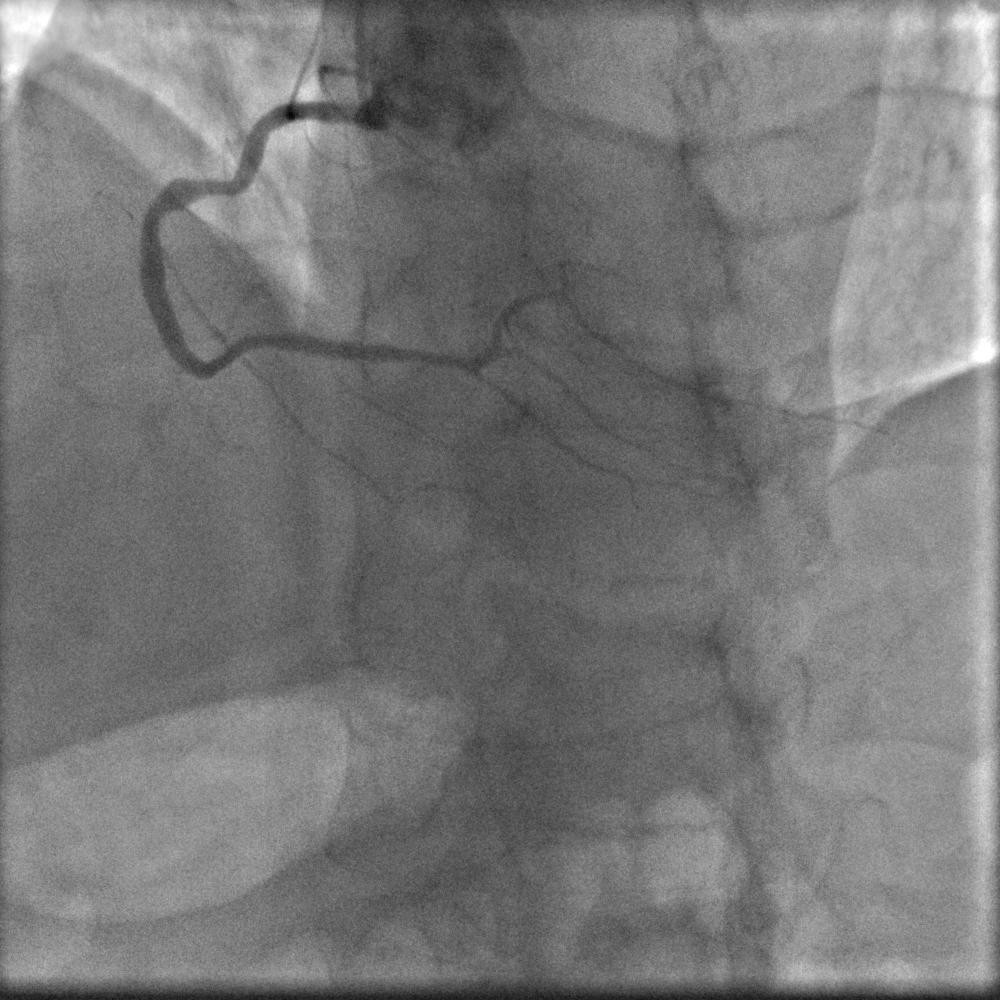Stenosis: (140, 197, 170, 234)
